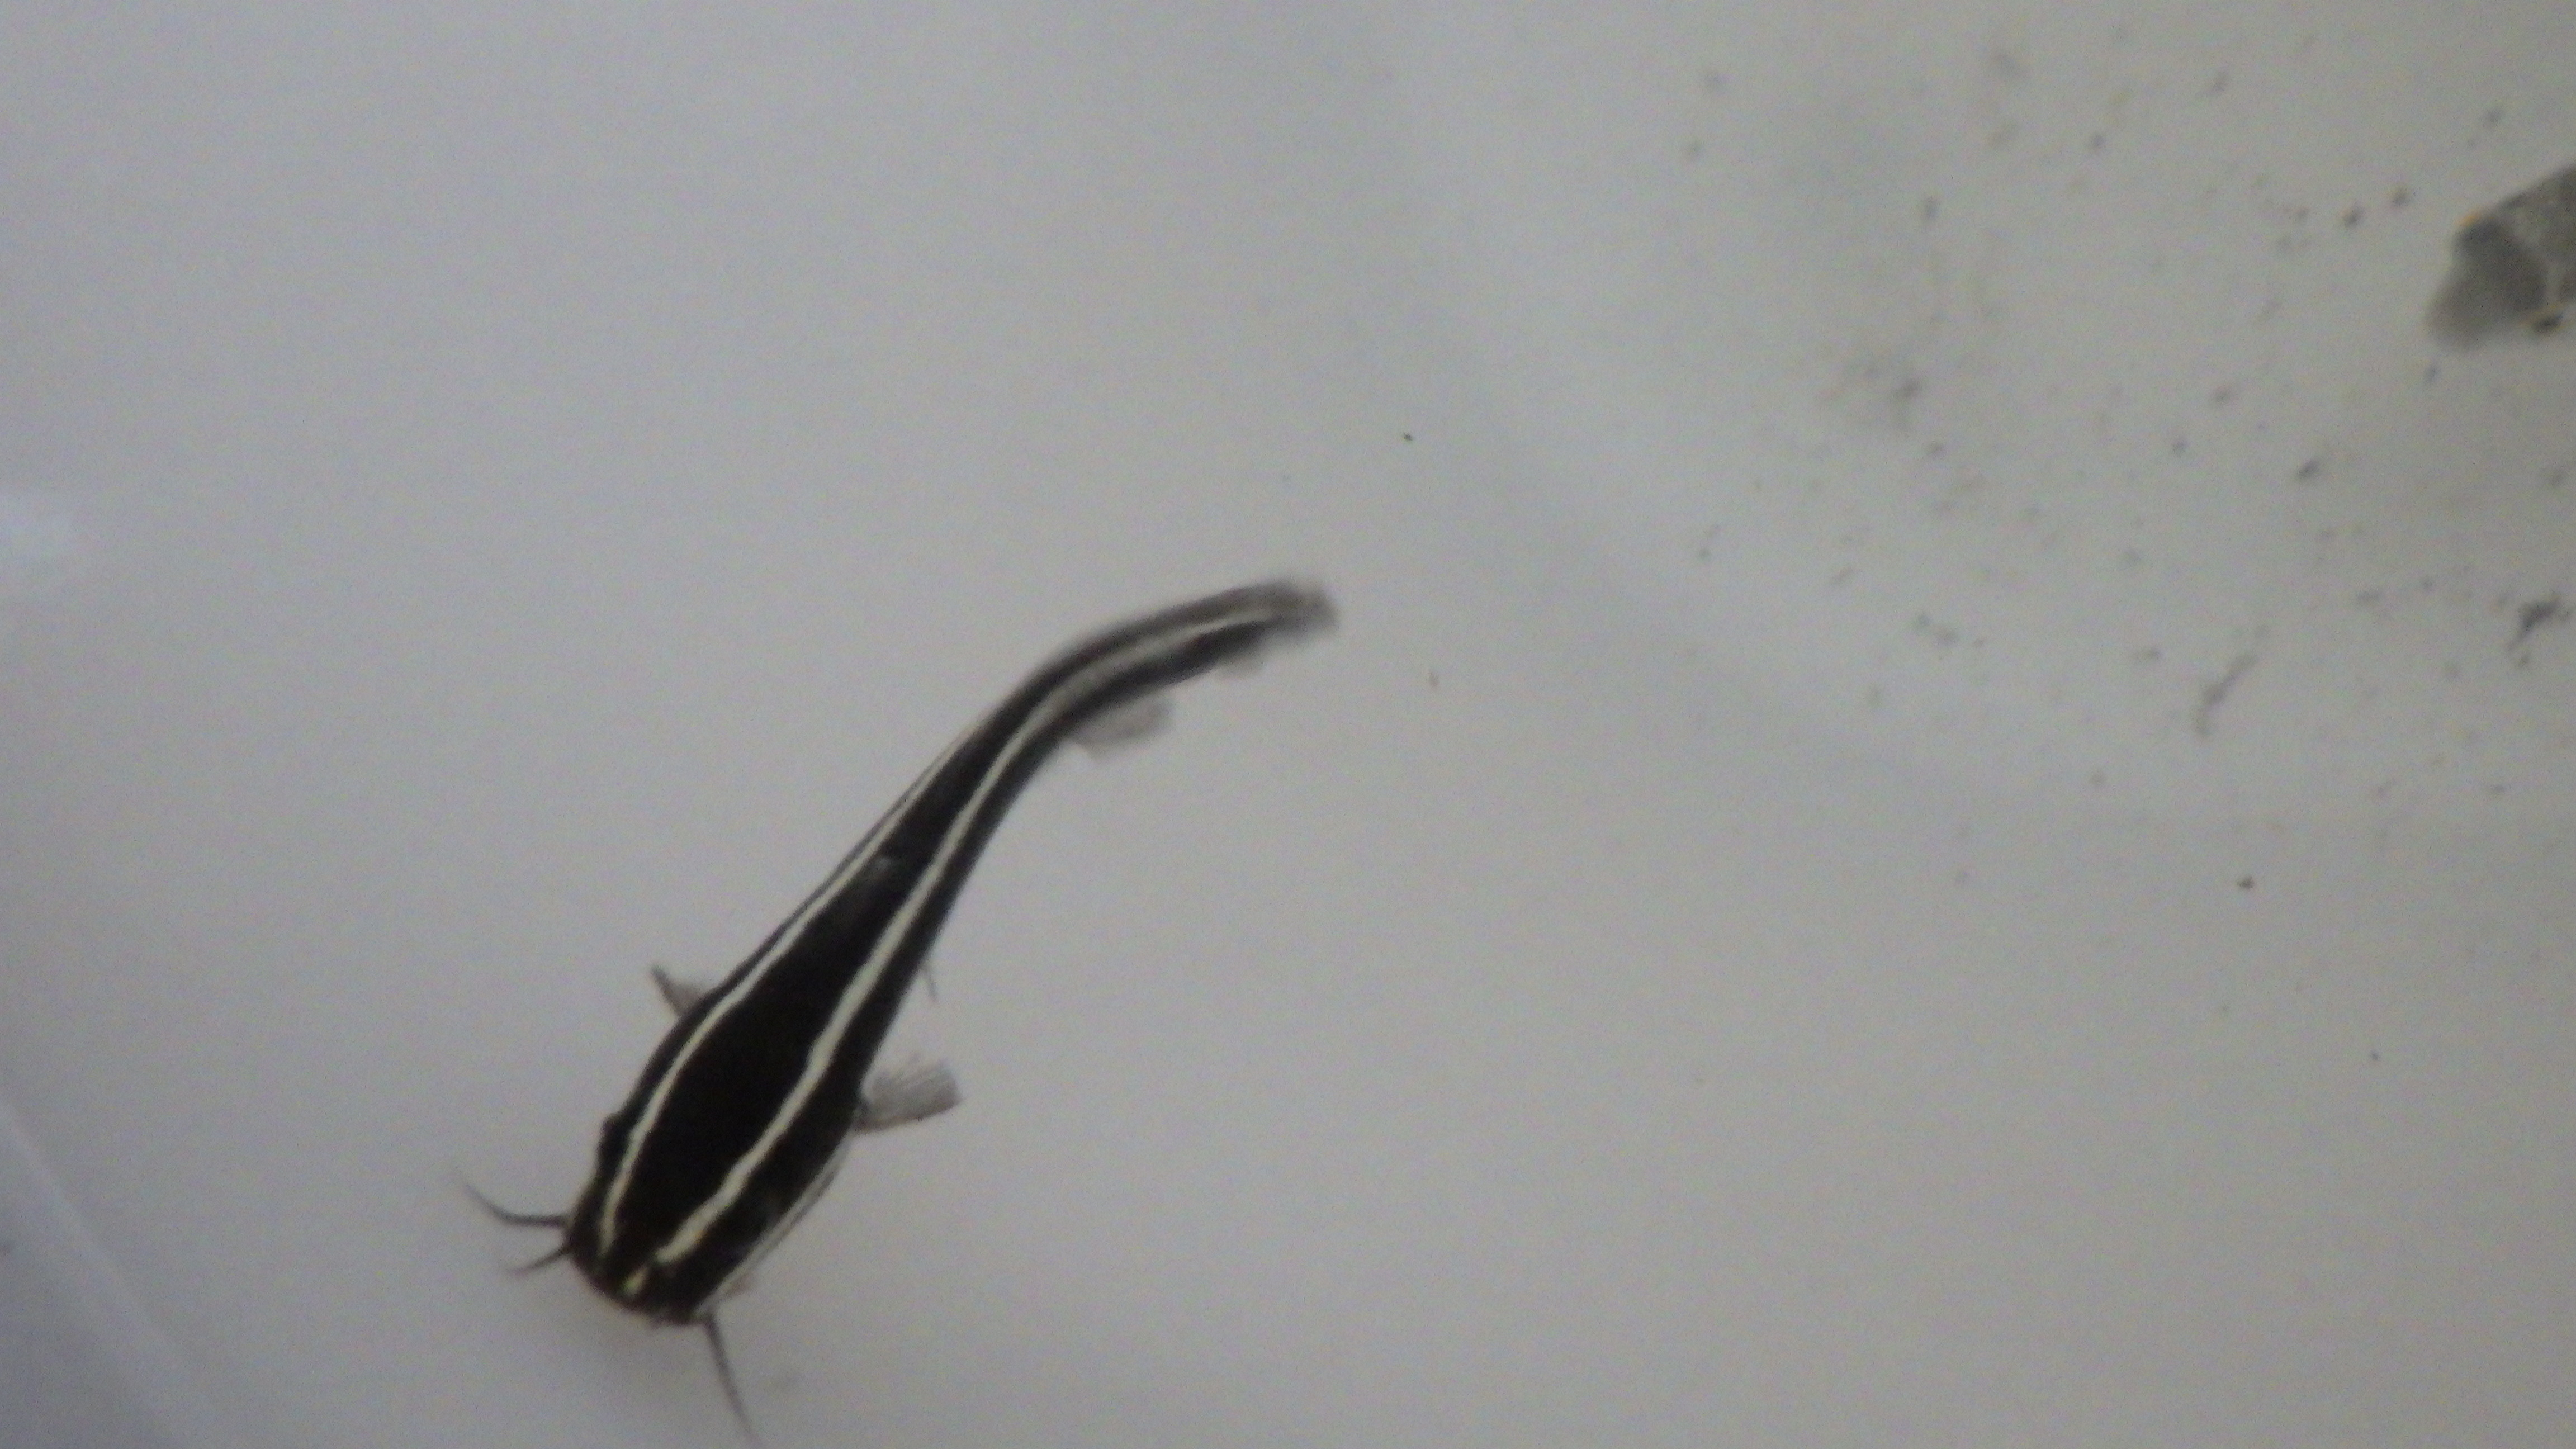gonzui: (444, 554, 1401, 1371)
